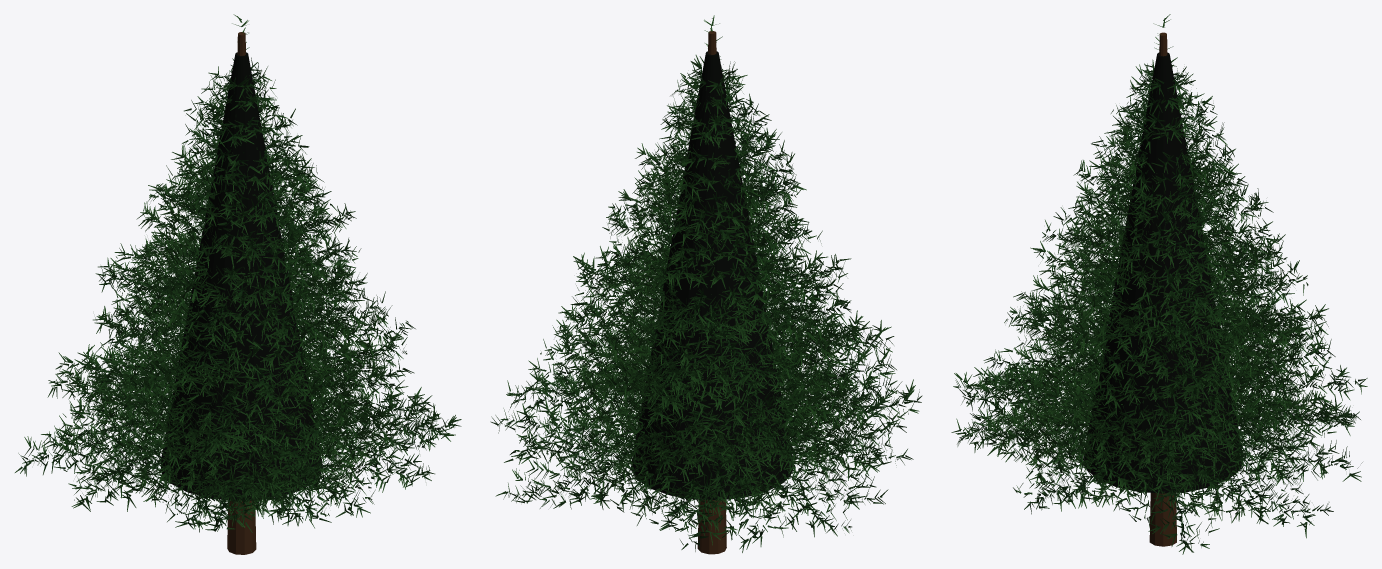
Rendered from fir.glb.
The picture shows the model from 3 angles, left to right: view 1: azimuth 30°, elevation 25°; view 2: azimuth 150°, elevation 25°; view 3: azimuth 270°, elevation 25°; orthographic projection.
Visible parts, largest first — view 1: needles, core, trunk; view 2: needles, core, trunk; view 3: needles, core, trunk.
Boxes of the visible parts, x1,y1,x2,y2 form: needles: [15, 14, 461, 532]; core: [161, 52, 322, 500]; trunk: [227, 32, 256, 554]; needles: [490, 15, 922, 552]; core: [631, 51, 792, 499]; trunk: [697, 31, 726, 554]; needles: [951, 14, 1367, 554]; core: [1083, 52, 1241, 493]; trunk: [1149, 32, 1176, 546].
Size of the model in its own units: 1.37 by 1.81 by 1.3.
